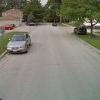Car: (7, 27, 34, 65)
